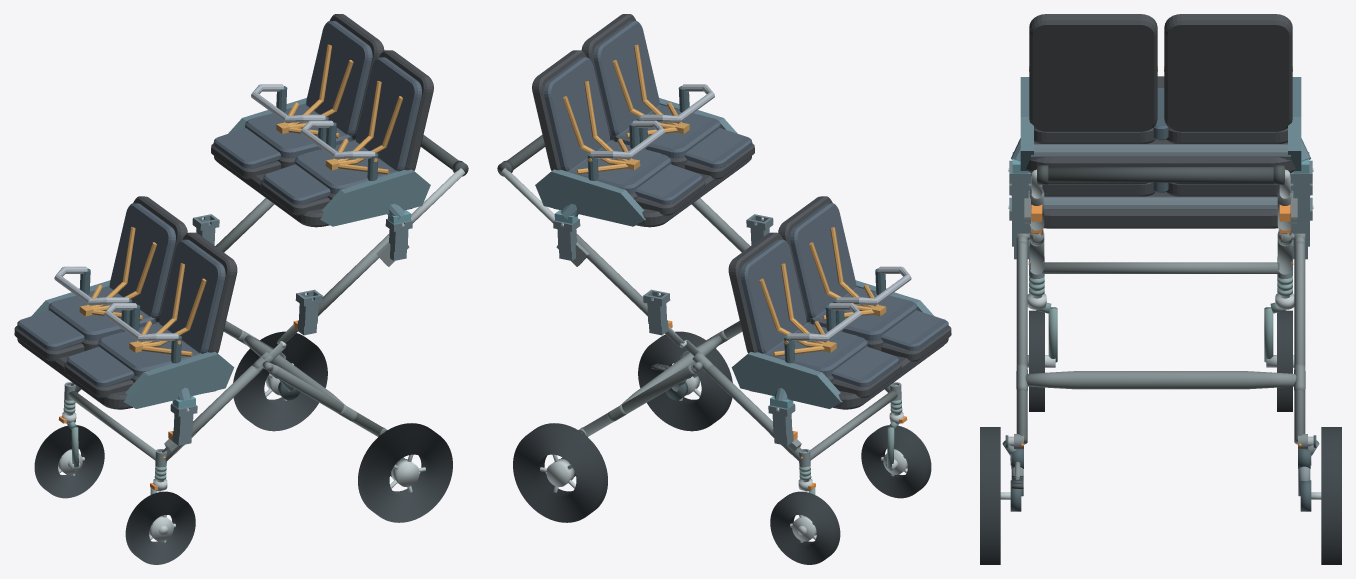
Rendered from D26_w650_state1_wheel_M.glb.
3 views of the same model, side by side, from view 1: azimuth 30°, elevation 25°; view 2: azimuth 150°, elevation 25°; view 3: azimuth 270°, elevation 25° (orthographic). The views are drawn at different scales.
Parts seen in each view (by area): view 1: D26_Lower, D26_Upper, RL_tire.008, RR_tire.008, FL_tire.008, FR_tire.008, V46_rear_leg_-1.009, main_lower_-1.009, main_upper_-1.009, front_fixed_round_tube.008, Universal_Cabin_Receiver_M_-1, V46_rearbar.009 (+5 smaller); view 2: D26_Lower, D26_Upper, RR_tire.008, RL_tire.008, FR_tire.008, FL_tire.008, V46_rear_leg_1.009, main_lower_1.009, main_upper_1.009, front_fixed_round_tube.008, Universal_Cabin_Receiver_M_1, V46_rearbar.009 (+5 smaller); view 3: D26_Upper, D26_Lower, V46_rearbar.009, round_handle.008, RL_tire.008, RR_tire.008, front_fixed_round_tube.008, V46_rear_leg_1.009, V46_rear_leg_-1.009, FL_tire.008, FR_tire.008, Universal_Cabin_Receiver_H_1 (+6 smaller).
Part boxes in pixels (x1,y1,x2,y2): D26_Lower: [14, 196, 237, 409]; D26_Upper: [211, 14, 433, 227]; RL_tire.008: [358, 423, 452, 522]; RR_tire.008: [233, 331, 327, 431]; FL_tire.008: [125, 491, 195, 564]; FR_tire.008: [34, 425, 104, 498]; V46_rear_leg_-1.009: [270, 365, 383, 436]; main_lower_-1.009: [162, 365, 262, 461]; main_upper_-1.009: [297, 234, 389, 321]; front_fixed_round_tube.008: [68, 391, 155, 460]; Universal_Cabin_Receiver_M_-1: [295, 289, 322, 335]; V46_rearbar.009: [243, 335, 345, 405]; D26_Lower: [728, 196, 951, 409]; D26_Upper: [532, 14, 754, 227]; RR_tire.008: [513, 423, 607, 522]; RL_tire.008: [638, 331, 732, 431]; FR_tire.008: [770, 491, 840, 564]; FL_tire.008: [861, 425, 931, 498]; V46_rear_leg_1.009: [582, 365, 695, 436]; main_lower_1.009: [703, 365, 803, 461]; main_upper_1.009: [576, 234, 668, 321]; front_fixed_round_tube.008: [810, 391, 897, 460]; Universal_Cabin_Receiver_M_1: [643, 289, 670, 335]; V46_rearbar.009: [620, 335, 722, 405]; D26_Upper: [1020, 14, 1301, 173]; D26_Lower: [1031, 173, 1290, 228]; V46_rearbar.009: [1025, 371, 1296, 389]; round_handle.008: [1037, 167, 1284, 182]; RL_tire.008: [980, 427, 1000, 564]; RR_tire.008: [1321, 427, 1341, 564]; front_fixed_round_tube.008: [1042, 262, 1279, 273]; V46_rear_leg_1.009: [1294, 241, 1305, 444]; V46_rear_leg_-1.009: [1016, 241, 1027, 444]; FL_tire.008: [1029, 310, 1044, 411]; FR_tire.008: [1277, 310, 1292, 411]; Universal_Cabin_Receiver_H_1: [1290, 160, 1312, 221].
Size of the model in its own units: 1.26 by 1.37 by 0.7871.
